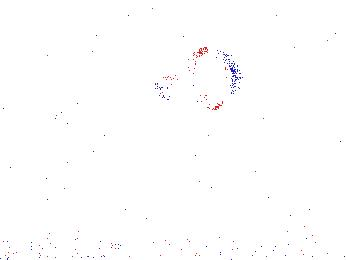flame jellyfish: (152, 49, 246, 112), (279, 171, 346, 221), (219, 159, 273, 207)
